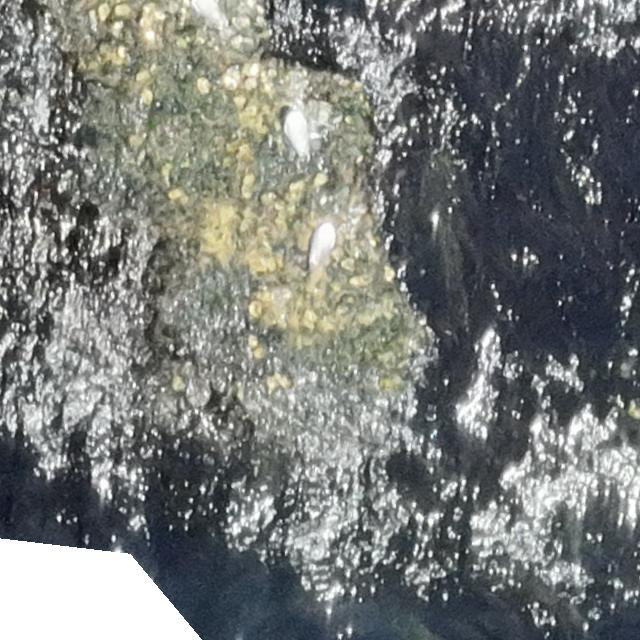umineko: (310, 222, 336, 275), (285, 107, 312, 157)
